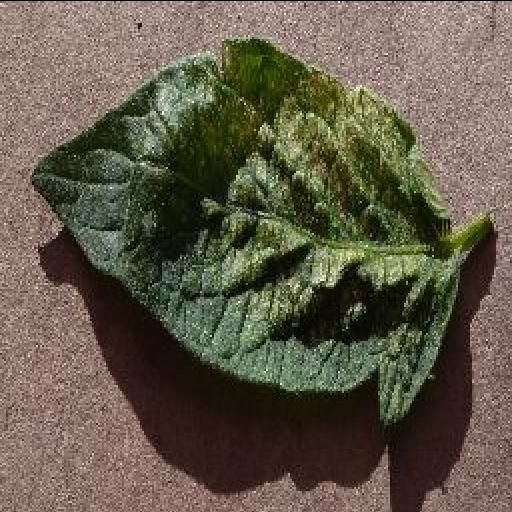disease_tomato: (30, 38, 464, 430)
